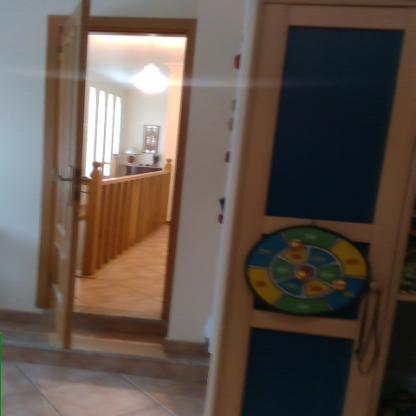open: (44, 33, 240, 373)
